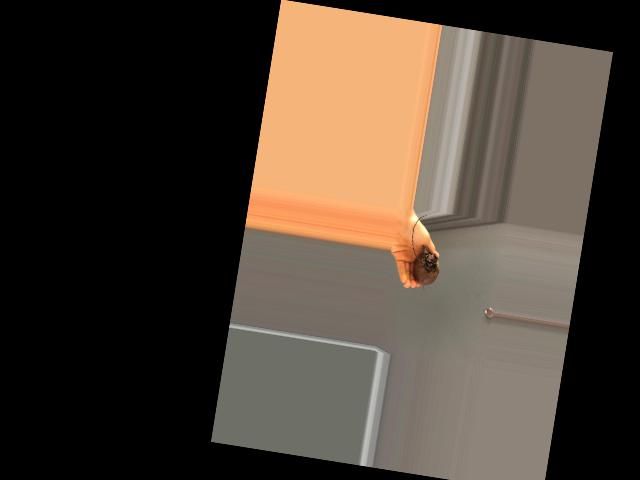beet: (402, 214, 446, 295)
